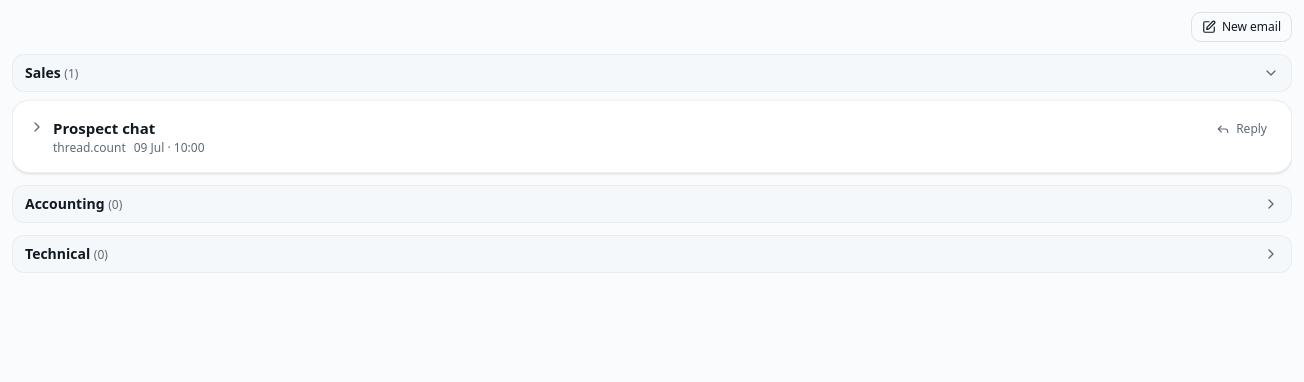
EmailThreadList › clicking a thread header shows and hides its messages
What coordinates should you click on to do the following:
click the button "Prospect chat thread.count 09 Jul · 10:00"
I would click on:
 (104, 128)
Its box is x1=29 y1=117 x2=1200 y2=156.
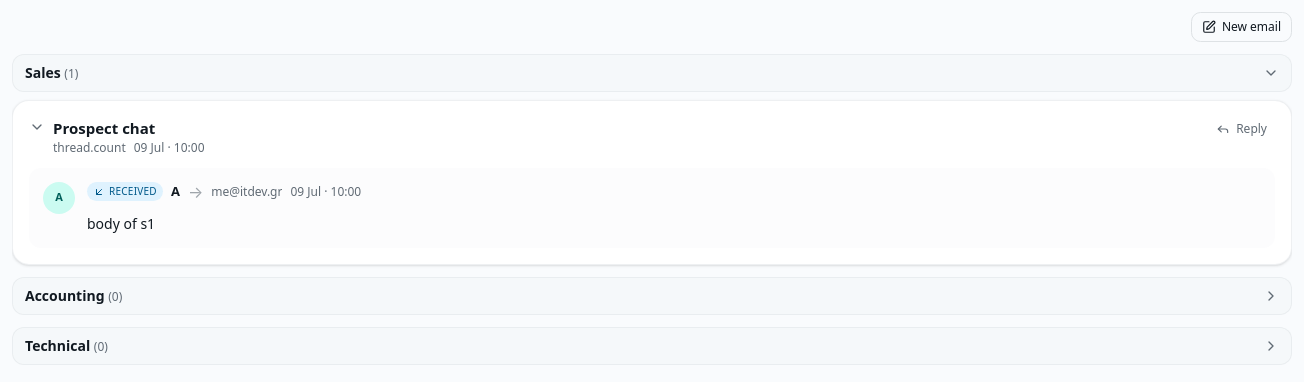
expect the text "body of s1" is shown: met, box x1=87 y1=214 x2=155 y2=232
What coordinates should you click on to do the following:
click the button "Prospect chat thread.count 09 Jul · 10:00"
I would click on:
 (104, 128)
Its box is x1=29 y1=117 x2=1200 y2=156.
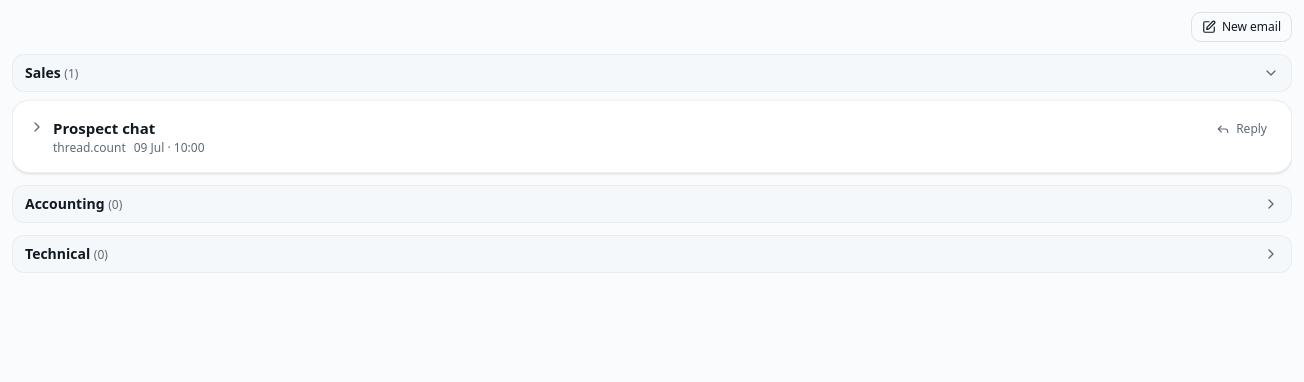
expect the text "body of s1" is gone: met
